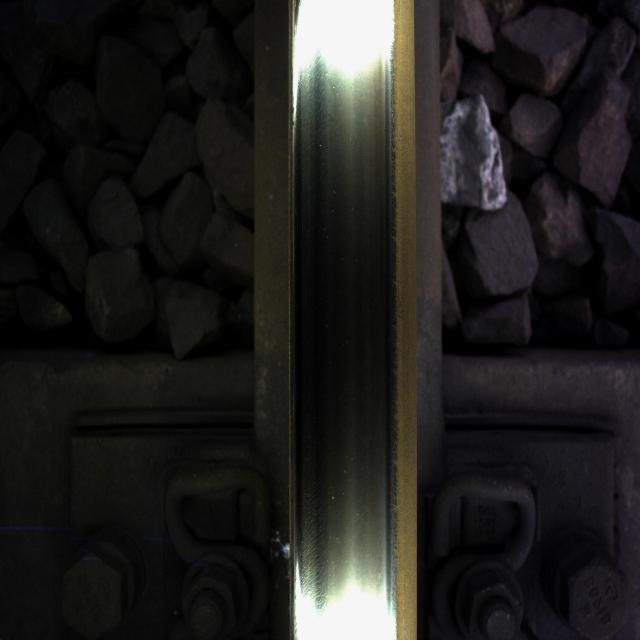break: (291, 10, 395, 625)
